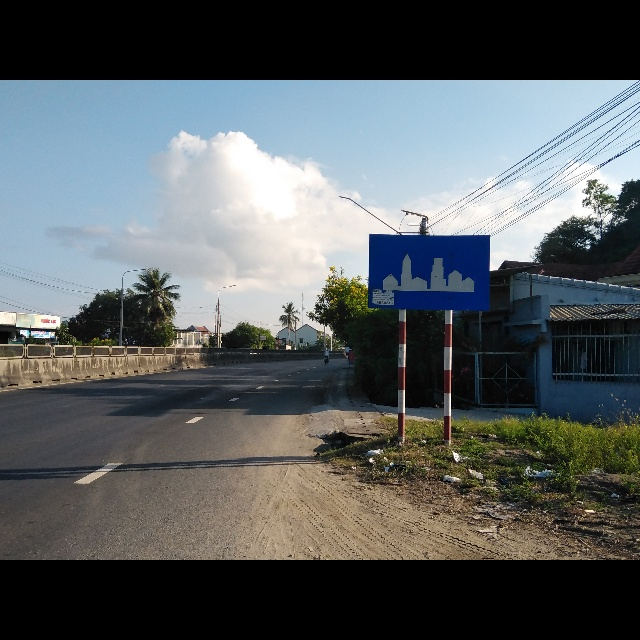Khu đông dân cư: (367, 233, 491, 312)
